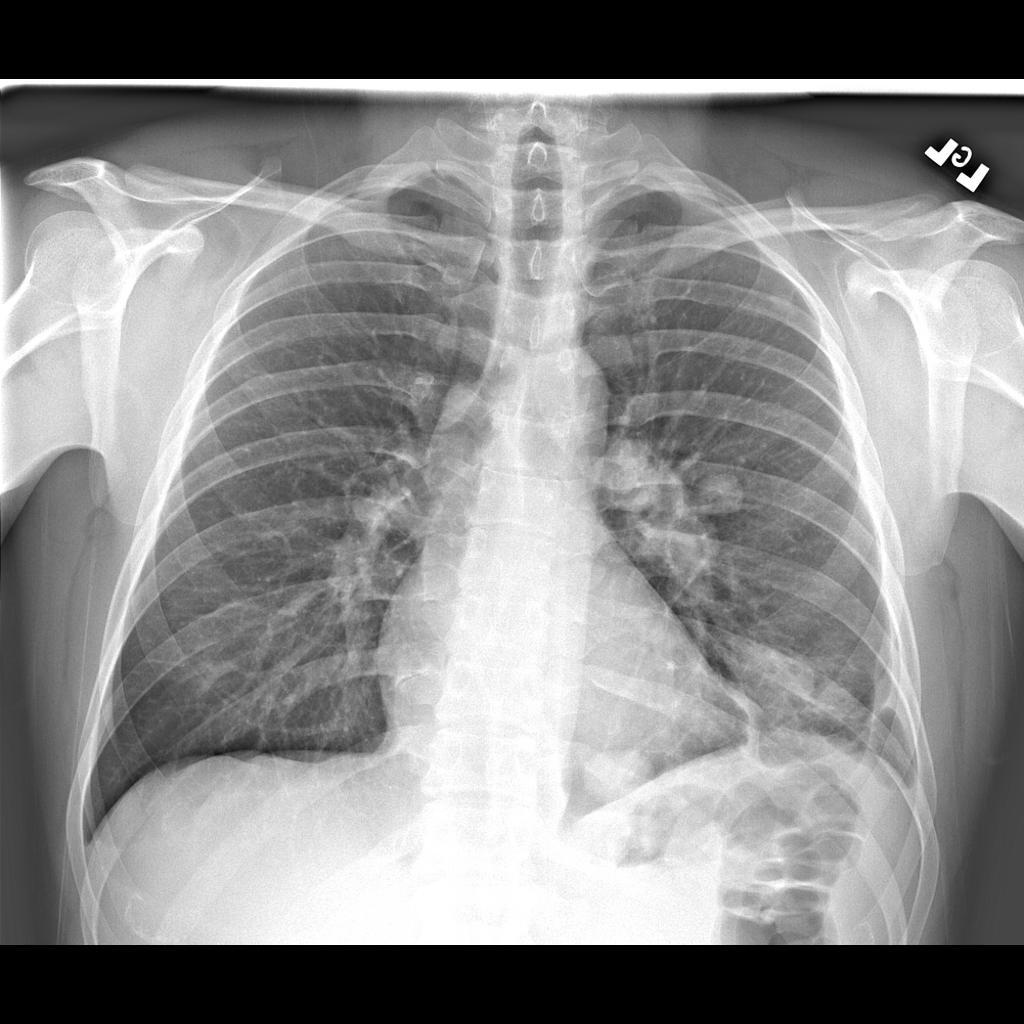Nodule: (722, 627, 835, 750), (580, 741, 658, 805), (698, 469, 751, 520)
